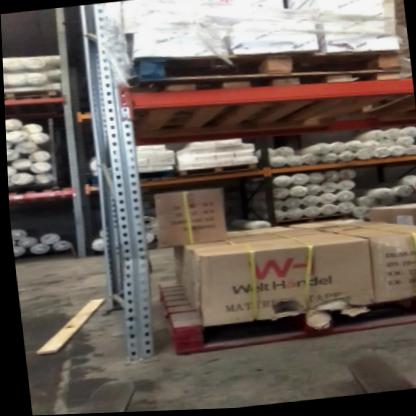vertical_damage: (116, 226, 157, 288)
